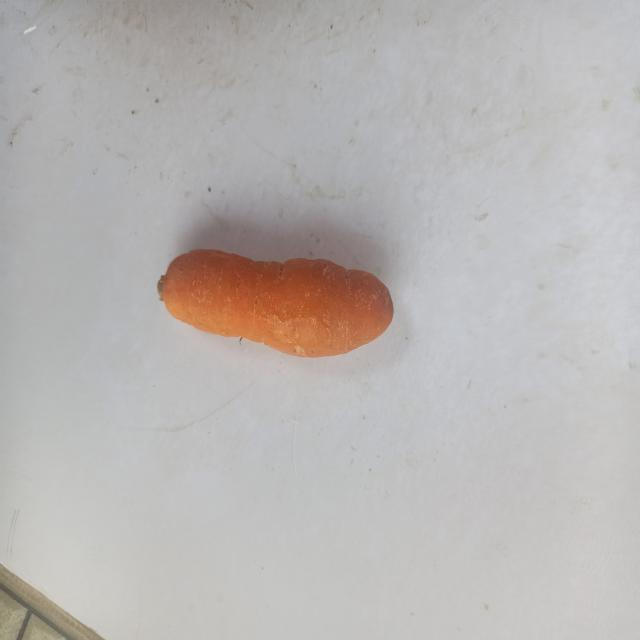Carrot: (136, 241, 411, 380)
